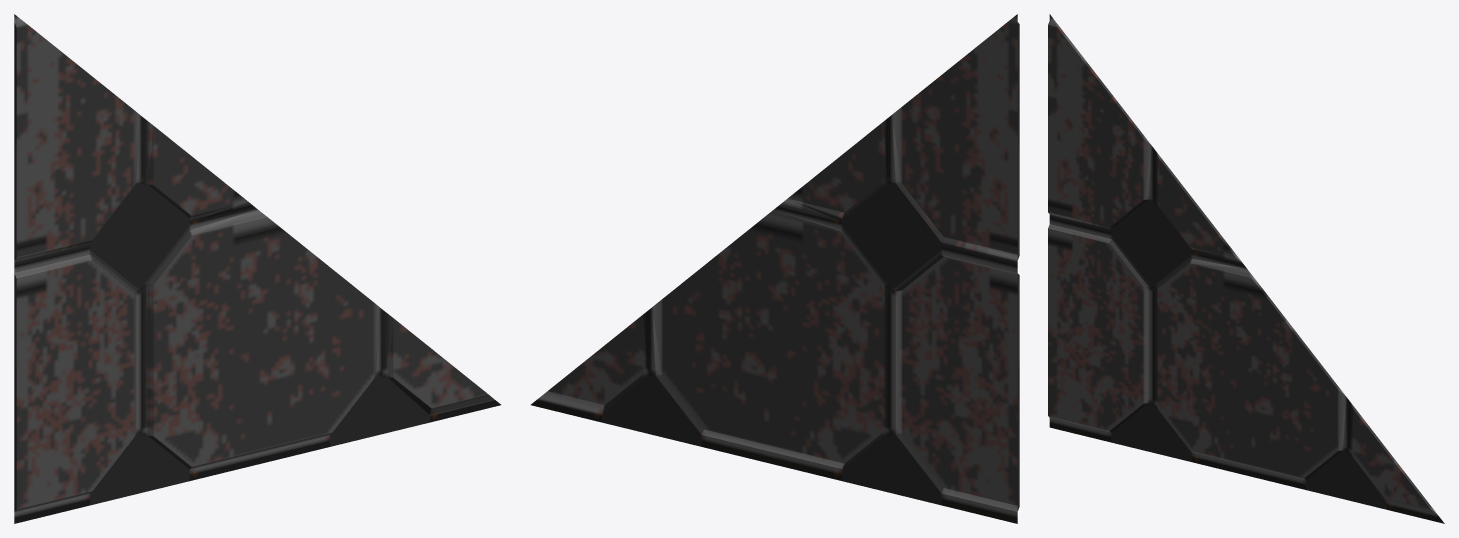
File: stor1_7_slice45.fbx
3 views of the same model, side by side, from view 1: azimuth 30°, elevation 25°; view 2: azimuth 150°, elevation 25°; view 3: azimuth 330°, elevation 25° (orthographic). The views are drawn at different scales.
Visible parts, largest first — view 1: stor1_7_slice45_mesh, stor1_7_mesh.edge2; view 2: stor1_7_slice45_mesh, stor1_7_mesh.edge2; view 3: stor1_7_slice45_mesh.
Boxes of the visible parts, <box> form: stor1_7_slice45_mesh: <box>14,14,500,523</box>; stor1_7_mesh.edge2: <box>14,22,16,511</box>; stor1_7_slice45_mesh: <box>531,14,1018,523</box>; stor1_7_mesh.edge2: <box>1017,22,1019,510</box>; stor1_7_slice45_mesh: <box>1048,14,1444,523</box>.
Size of the model in its own units: 256 by 256 by 2.
